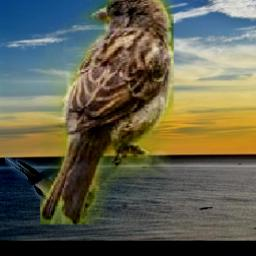Sparrow: (39, 0, 173, 225)
Swallow: (5, 157, 59, 205)
